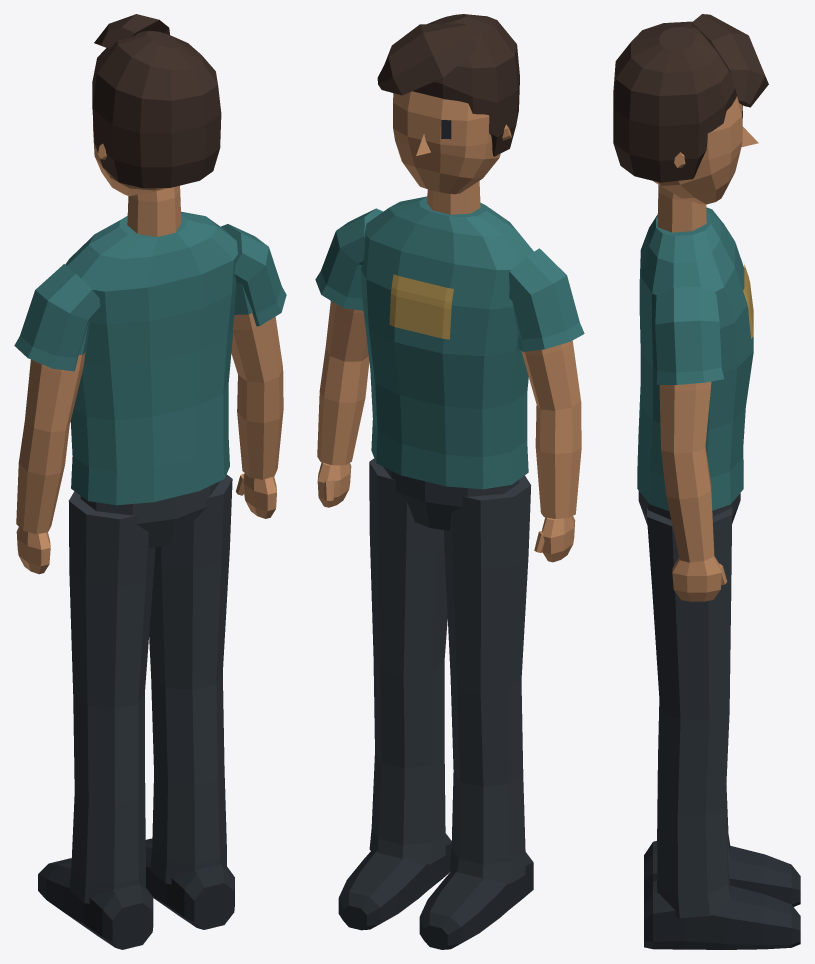
Rendered from lwf_attendee_male_relaxed_v2.glb.
3 views of the same model, side by side, from view 1: azimuth 30°, elevation 25°; view 2: azimuth 150°, elevation 25°; view 3: azimuth 270°, elevation 25° (orthographic).
Visible parts, largest first — view 1: Attendee_male_relaxed_v6; view 2: Attendee_male_relaxed_v6; view 3: Attendee_male_relaxed_v6.
Boxes of the visible parts, left/top/right/bottom form: Attendee_male_relaxed_v6: left=14, top=14, right=286, bottom=949; Attendee_male_relaxed_v6: left=315, top=14, right=584, bottom=949; Attendee_male_relaxed_v6: left=613, top=14, right=800, bottom=949.
Size of the model in its own units: 0.5385 by 1.78 by 0.3364.
1 material, 1 textured.
